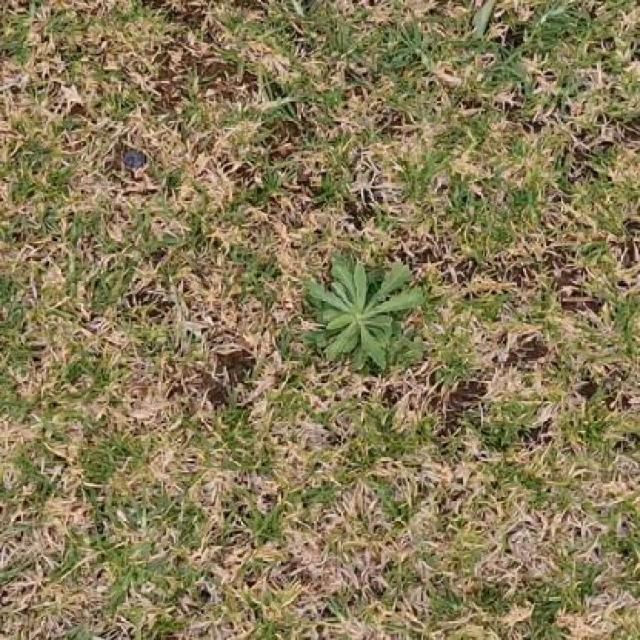weed: (306, 255, 426, 372)
